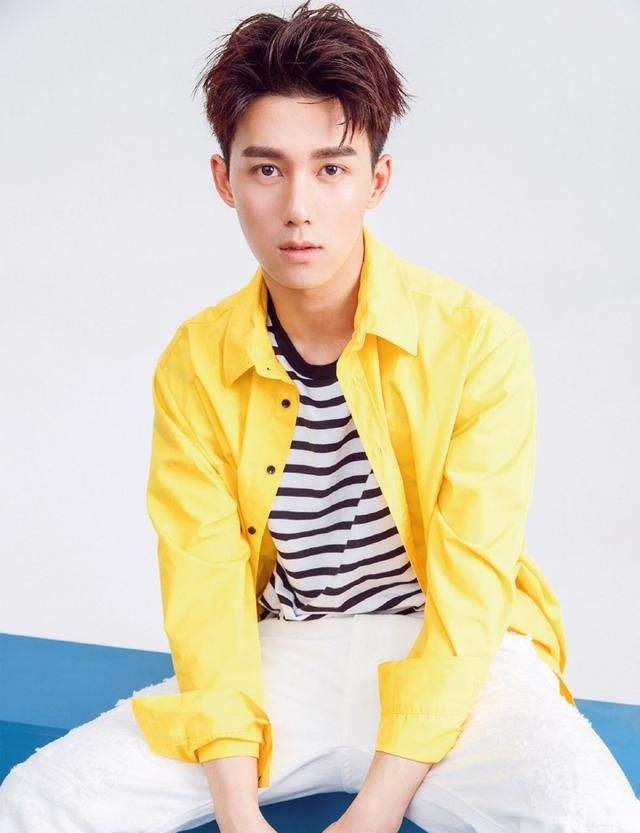person: (98, 26, 516, 755)
